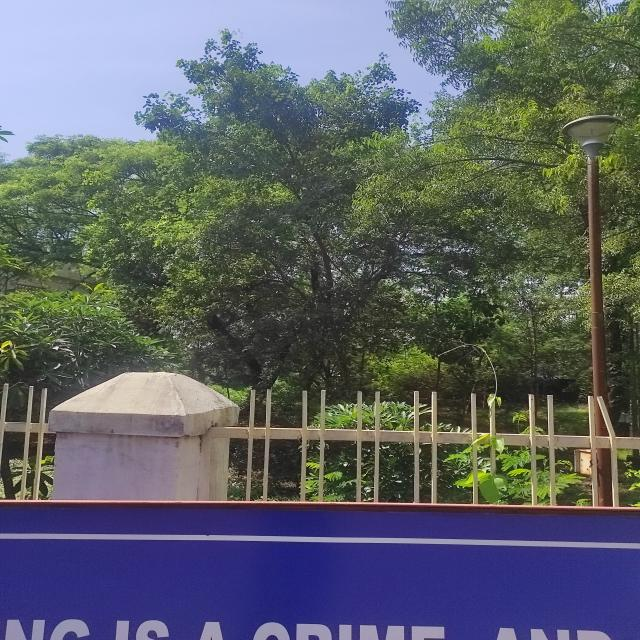Devakanchan tree: (166, 59, 377, 359)
Neem Tree: (385, 2, 640, 288), (1, 126, 155, 194)
